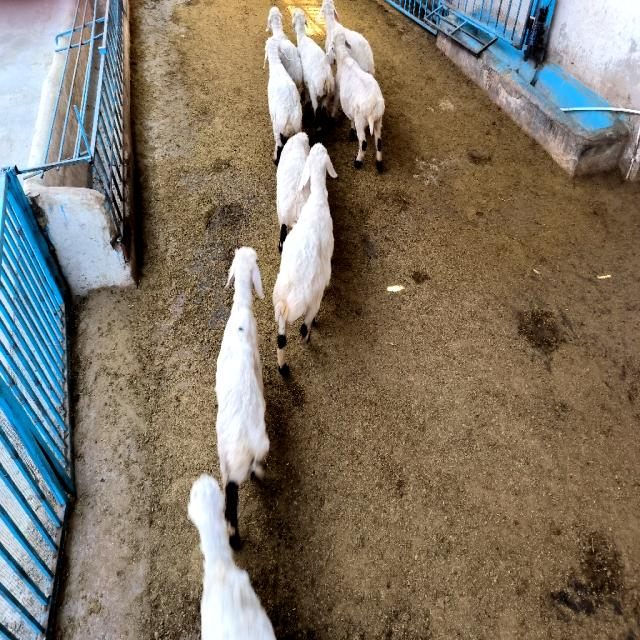sheep: (216, 247, 269, 547), (272, 143, 336, 375), (189, 475, 275, 640), (328, 28, 385, 170), (292, 8, 335, 141), (265, 38, 302, 164), (318, 0, 375, 76), (276, 132, 310, 251), (266, 7, 302, 88), (329, 88, 339, 124)
